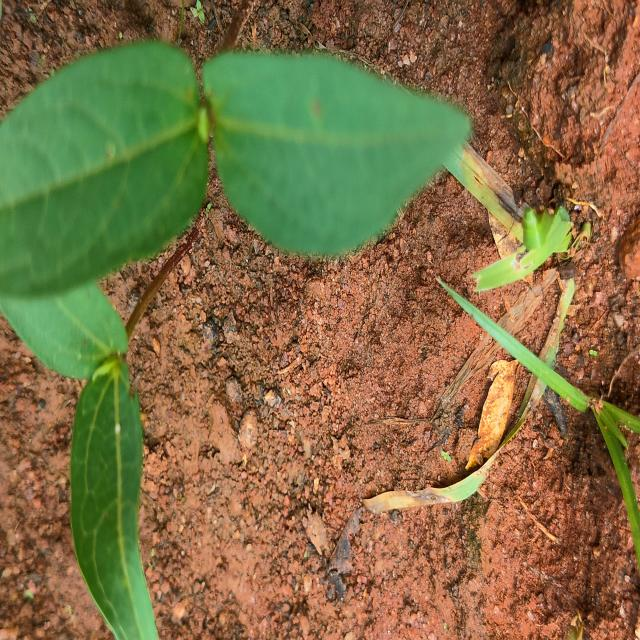Black gram_healthy: (0, 36, 212, 300), (194, 56, 472, 256), (69, 348, 160, 640)
